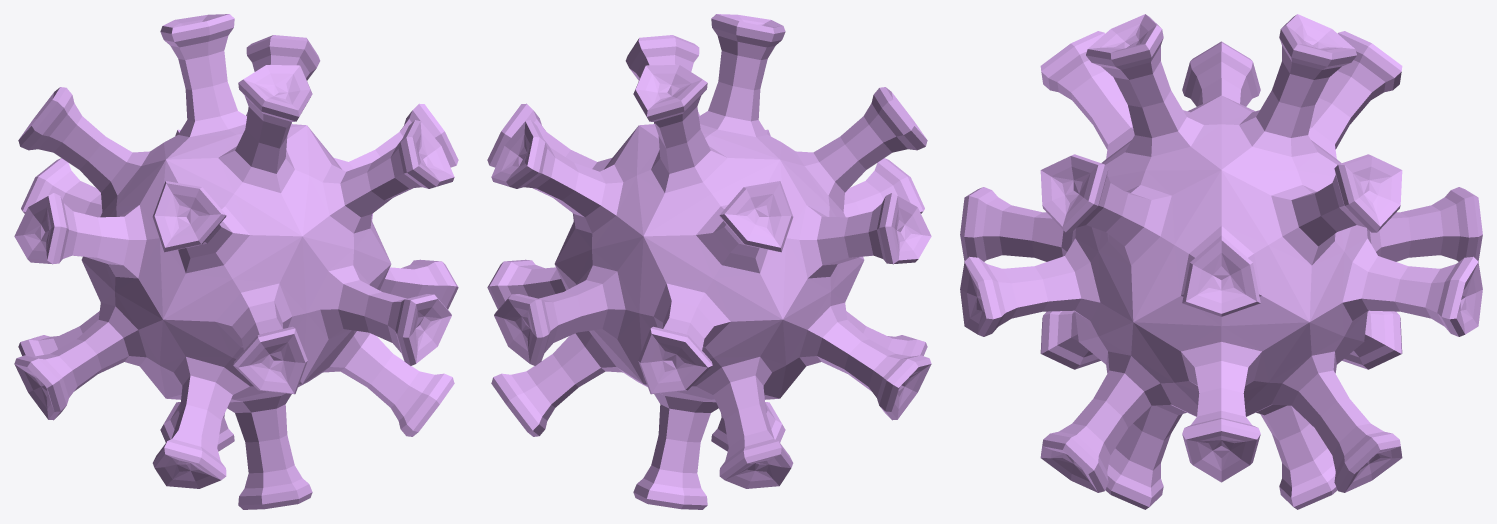
3 renders of one model, left to right at view 1: azimuth 30°, elevation 25°; view 2: azimuth 150°, elevation 25°; view 3: azimuth 270°, elevation 25°, orthographic. The views are drawn at different scales.
Visible parts, largest first — view 1: Virus; view 2: Virus; view 3: Virus.
Boxes of the visible parts, bbox=[...] form: Virus: bbox=[14, 14, 458, 509]; Virus: bbox=[487, 14, 931, 509]; Virus: bbox=[960, 14, 1482, 509].
Size of the model in its own units: 21.19 by 21.19 by 21.19.
Materials: 1 (1 with a texture image).
